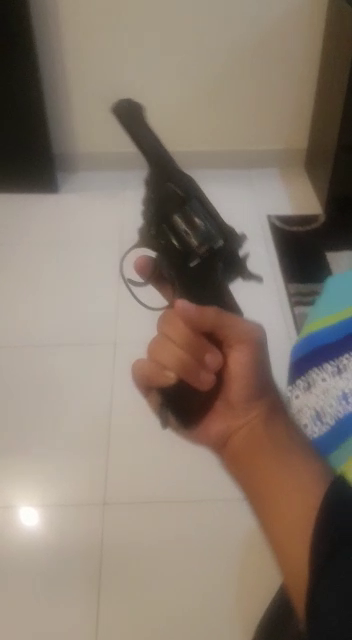handgun: (97, 75, 265, 305)
